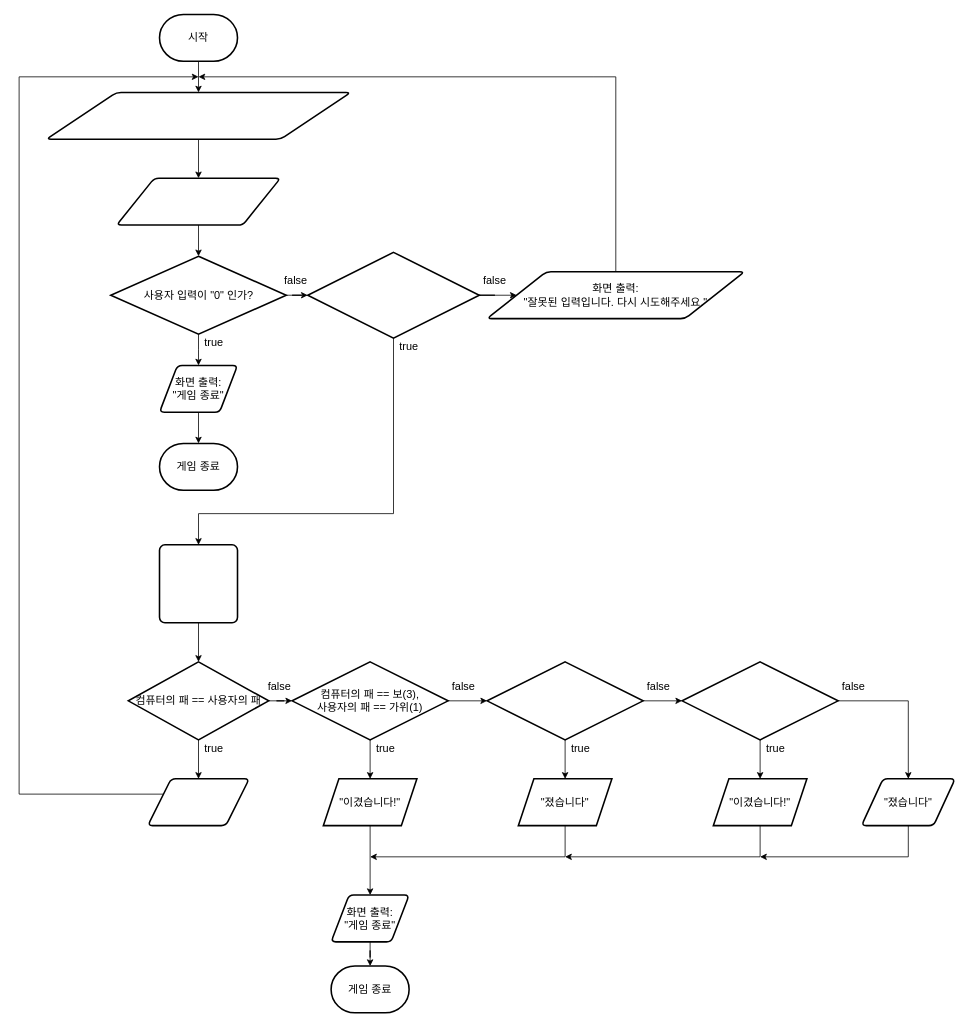
Image size: 970x1026. Some labels were removed from this diagram. Each missing label, with the centre of its shape:
"비겼습니다!": (198,802)
사용자 입력: (198,201)
사용자 입력이 "1" 또는 "2" 또는 "3"이 인가?: (393,295)
컴퓨터가 임의의 패를 하나 정함: (198,583)
컴퓨터의 패 < 사용자의 패: (759,700)
컴퓨터의 패 == 가위(1), 사용자의 패 == 보(3): (565,700)
화면 출력: "가위(1), 바위(2), 보(3)! <종료 : 0> :": (198,115)
